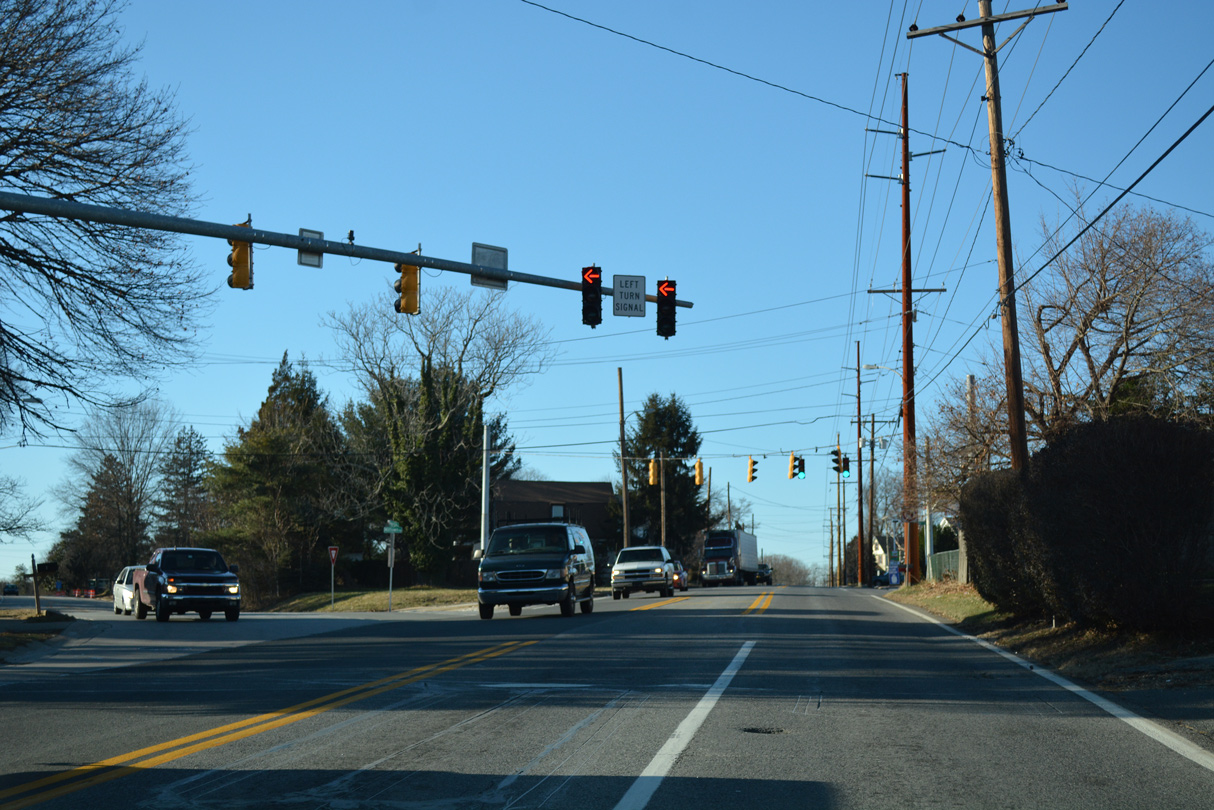traffic_light: (579, 265, 604, 327), (655, 278, 678, 339), (796, 456, 807, 482), (841, 456, 851, 480)
